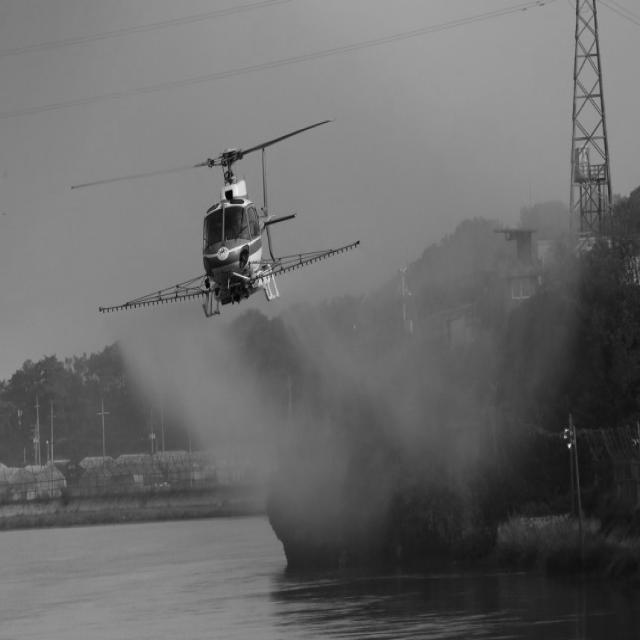helicopter: (95, 114, 345, 342)
